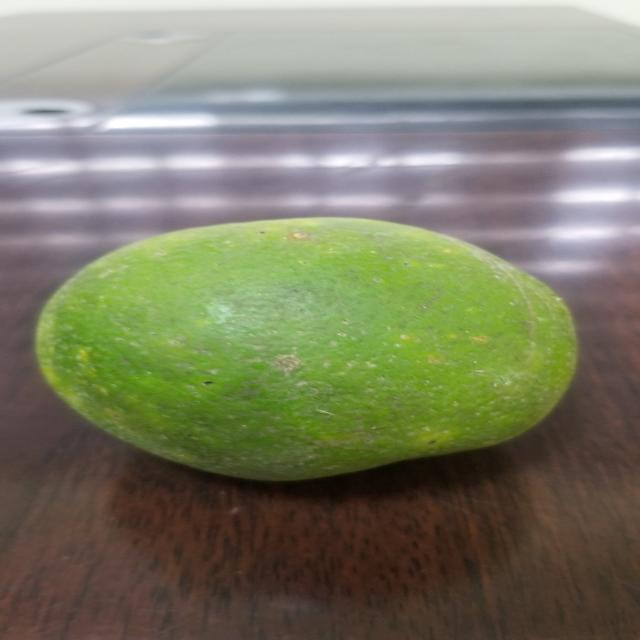Ripe orange: (26, 205, 617, 490)
